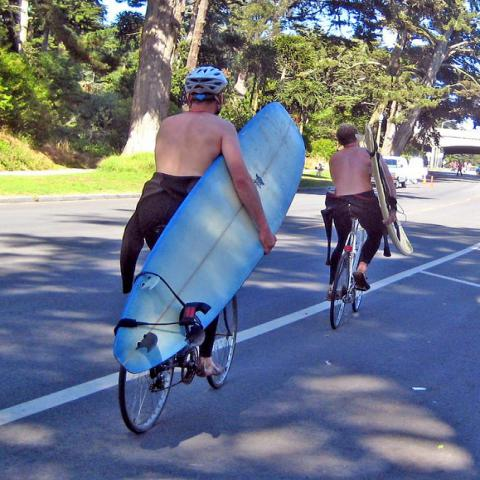car: (370, 156, 427, 188)
